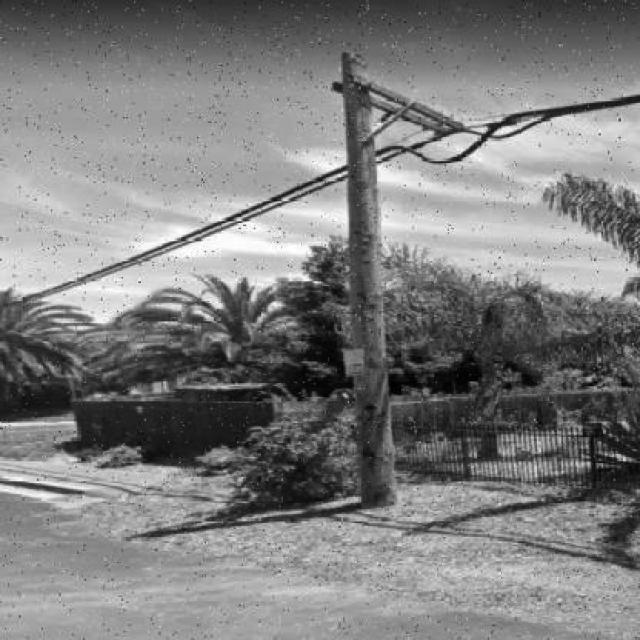crossarm: (358, 86, 478, 138)
pole: (335, 55, 397, 511)
wire: (19, 165, 347, 305), (40, 173, 345, 298), (483, 95, 640, 139)
